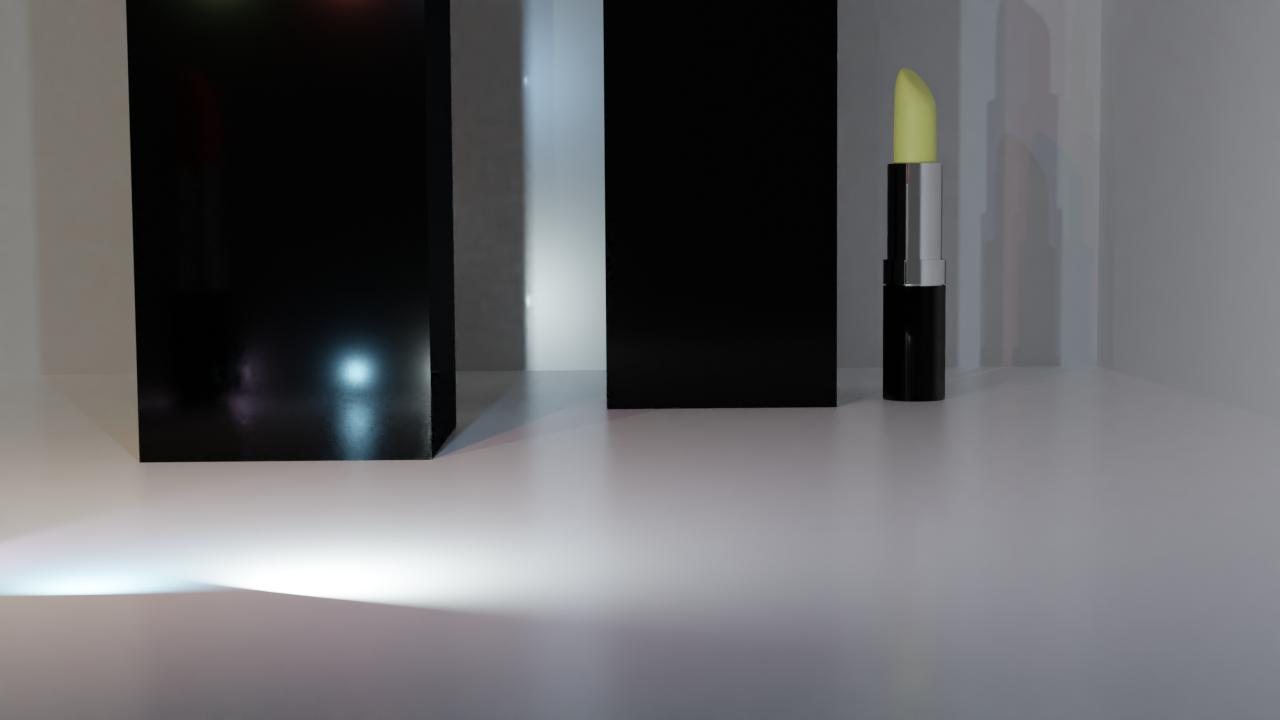CLASSIFIER_NAME: (881, 64, 947, 402)
